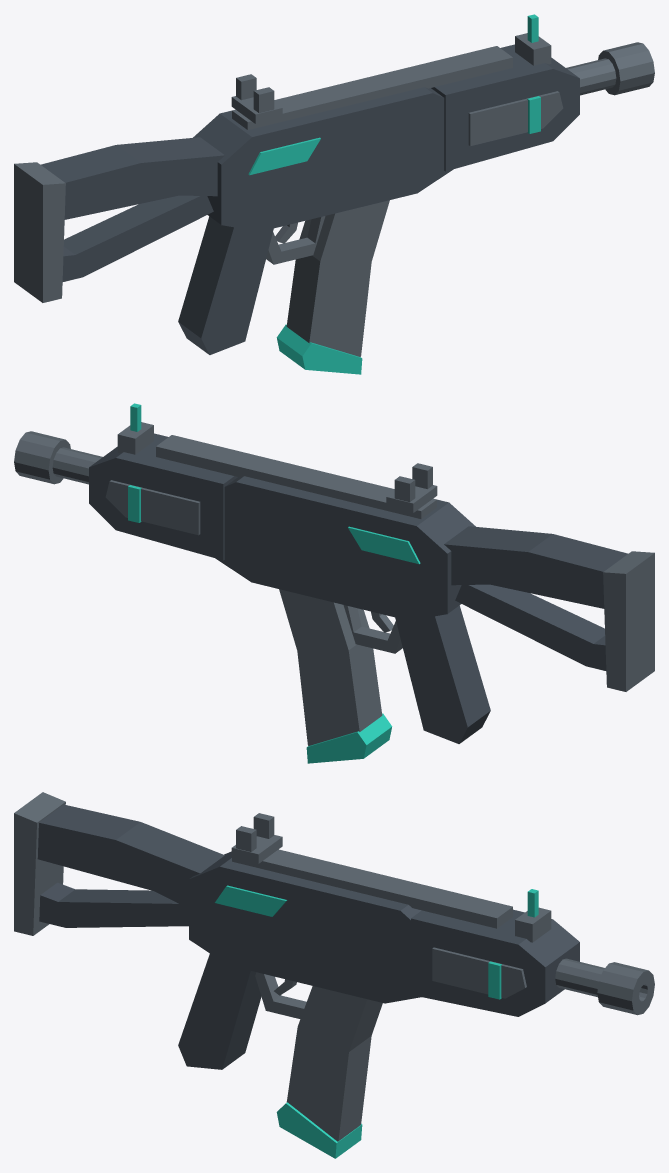
Rendered from Assault_Rifle_01.glb.
3 views of the same model, one above another, from view 1: azimuth 30°, elevation 25°; view 2: azimuth 150°, elevation 25°; view 3: azimuth 330°, elevation 25° (orthographic).
Parts seen in each view (by area): view 1: Rifle_Body, Rifle_Magazine, Rifle_Stock_Upper, Rifle_Pistol_Grip, Rifle_Handguard, Rifle_Stock_Pad, Rifle_Top_Rail, Rifle_Stock_Lower, Rifle_Handguard_Panel_Left, Rifle_Muzzle, Rifle_Receiver_Accent_Left, Rifle_Trigger_Guard (+3 smaller); view 2: Rifle_Body, Rifle_Magazine, Rifle_Stock_Upper, Rifle_Pistol_Grip, Rifle_Handguard, Rifle_Stock_Pad, Rifle_Top_Rail, Rifle_Stock_Lower, Rifle_Handguard_Panel_Right, Rifle_Muzzle, Rifle_Receiver_Accent_Right, Rifle_Trigger_Guard (+3 smaller); view 3: Rifle_Body, Rifle_Magazine, Rifle_Stock_Upper, Rifle_Handguard, Rifle_Pistol_Grip, Rifle_Top_Rail, Rifle_Stock_Lower, Rifle_Stock_Pad, Rifle_Handguard_Panel_Left, Rifle_Muzzle, Rifle_Barrel, Rifle_Receiver_Accent_Left (+3 smaller).
Part boxes in pixels (bbox=[...]): Rifle_Body: bbox=[193, 87, 453, 231]; Rifle_Magazine: bbox=[276, 200, 389, 374]; Rifle_Stock_Upper: bbox=[41, 137, 224, 219]; Rifle_Pistol_Grip: bbox=[178, 216, 273, 354]; Rifle_Handguard: bbox=[431, 44, 579, 171]; Rifle_Stock_Pad: bbox=[14, 162, 65, 302]; Rifle_Top_Rail: bbox=[232, 46, 512, 129]; Rifle_Stock_Lower: bbox=[62, 195, 213, 281]; Rifle_Handguard_Panel_Left: bbox=[468, 91, 563, 146]; Rifle_Muzzle: bbox=[598, 42, 654, 95]; Rifle_Receiver_Accent_Left: bbox=[248, 137, 320, 175]; Rifle_Trigger_Guard: bbox=[266, 216, 325, 264]; Rifle_Body: bbox=[215, 476, 475, 620]; Rifle_Magazine: bbox=[279, 589, 392, 763]; Rifle_Stock_Upper: bbox=[444, 526, 627, 608]; Rifle_Pistol_Grip: bbox=[395, 605, 490, 743]; Rifle_Handguard: bbox=[89, 433, 237, 560]; Rifle_Stock_Pad: bbox=[603, 551, 654, 691]; Rifle_Top_Rail: bbox=[156, 435, 436, 518]; Rifle_Stock_Lower: bbox=[455, 584, 606, 670]; Rifle_Handguard_Panel_Right: bbox=[105, 480, 200, 535]; Rifle_Muzzle: bbox=[14, 431, 70, 484]; Rifle_Receiver_Accent_Right: bbox=[348, 526, 420, 564]; Rifle_Trigger_Guard: bbox=[343, 605, 402, 653]; Rifle_Body: bbox=[189, 851, 421, 1003]; Rifle_Magazine: bbox=[276, 986, 382, 1158]; Rifle_Stock_Upper: bbox=[37, 804, 224, 908]; Rifle_Handguard: bbox=[411, 909, 579, 1016]; Rifle_Pistol_Grip: bbox=[178, 954, 261, 1069]; Rifle_Top_Rail: bbox=[232, 849, 512, 928]; Rifle_Stock_Lower: bbox=[39, 882, 188, 927]; Rifle_Stock_Pad: bbox=[14, 792, 65, 935]; Rifle_Handguard_Panel_Left: bbox=[432, 947, 526, 998]; Rifle_Muzzle: bbox=[597, 962, 654, 1015]; Rifle_Barrel: bbox=[555, 958, 604, 997]; Rifle_Receiver_Accent_Left: bbox=[215, 885, 286, 916].
Bounding box in the file's own units: 0.8 × 0.3772 × 0.093.
